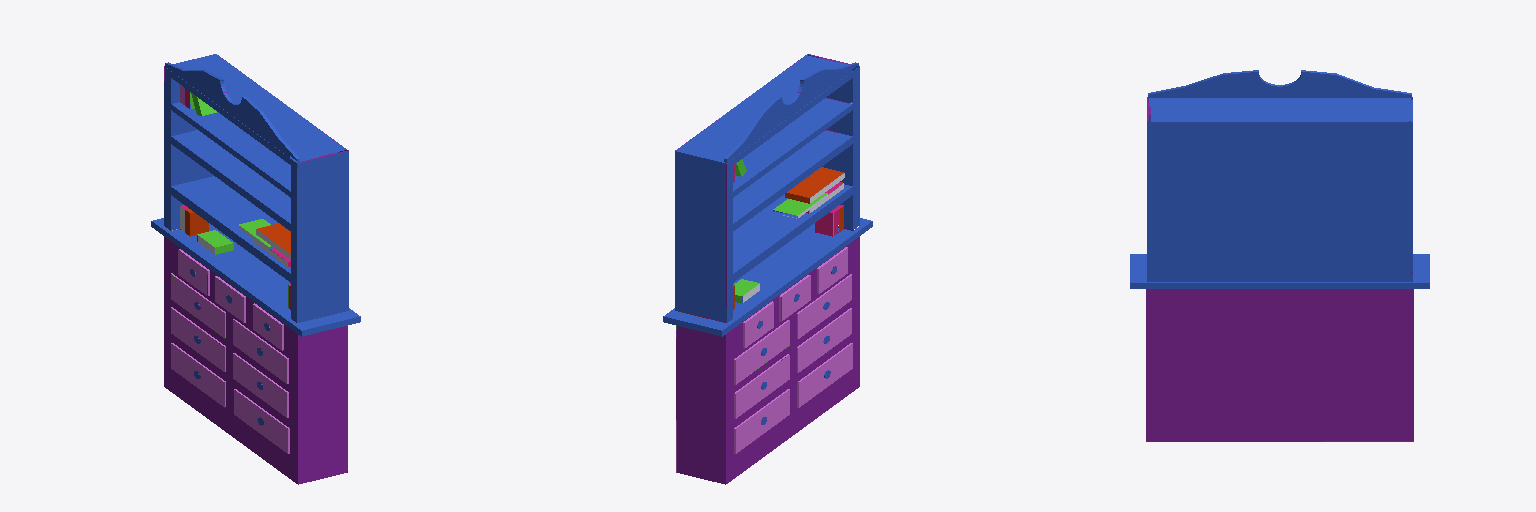
3 renders of one model, left to right at view 1: azimuth 30°, elevation 25°; view 2: azimuth 150°, elevation 25°; view 3: azimuth 270°, elevation 25°, orthographic.
Parts seen in each view (by area): view 1: Cubo_Cubo.004; view 2: Cubo_Cubo.004; view 3: Cubo_Cubo.004.
Part boxes in pixels (x1,y1,x2,y2): Cubo_Cubo.004: (151,54,360,484); Cubo_Cubo.004: (663,54,872,484); Cubo_Cubo.004: (1130,70,1429,441).
Size of the model in its own units: 4.09 by 23 by 18.
1 materials, 1 textured.